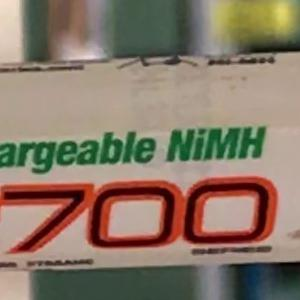NIMH: (156, 117, 276, 172)
